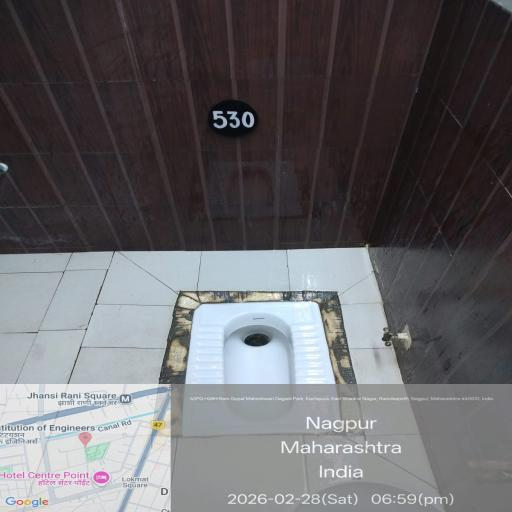clean_floor: (52, 267, 512, 512), (16, 41, 440, 209)
clean_indian: (170, 294, 376, 466)
